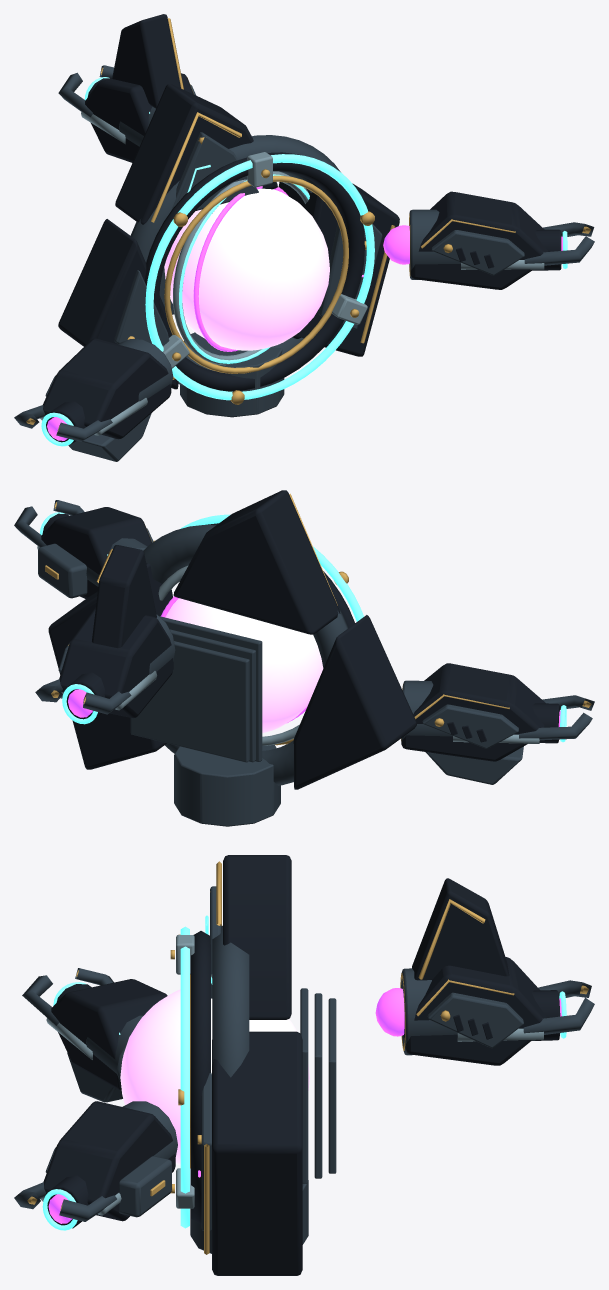
The model's file is vortex.glb.
3 renders of one model, top to bottom at view 1: azimuth 30°, elevation 25°; view 2: azimuth 150°, elevation 25°; view 3: azimuth 270°, elevation 25°, orthographic. The views are drawn at different scales.
Visible parts, largest first — view 1: Core_confined_plasma, Hull_dorsal_keel, Reactor_front_bezel, Arm1_tapered_carapace, Hull_port_cheek, Arm2_tapered_carapace, Ring_A_cyan_ceramic, Stabilizer_asymmetric_fin, Hull_starboard_cheek, Reactor_inner_gold_liner, Arm0_tapered_carapace, Reactor_armored_casing (+19 smaller); view 2: Hull_dorsal_keel, Hull_port_cheek, Rear_heat_sink_2, Core_confined_plasma, Underbody_turbine, Arm1_tapered_carapace, Arm0_tapered_carapace, Hull_starboard_cheek, Stabilizer_asymmetric_fin, Arm2_tapered_carapace, Reactor_armored_casing, Arm1_top_plate (+17 smaller); view 3: Hull_starboard_cheek, Hull_dorsal_keel, Arm2_tapered_carapace, Core_confined_plasma, Arm0_tapered_carapace, Arm1_tapered_carapace, Stabilizer_asymmetric_fin, Reactor_armored_casing, Reactor_front_bezel, Arm0_top_plate, Ring_A_cyan_ceramic, Focuser_side_cartridge (+18 smaller).
Part boxes in pixels (x1=…): Core_confined_plasma: x1=164, y1=188, x2=329, y2=350; Hull_dorsal_keel: x1=115, y1=84, x2=277, y2=224; Reactor_front_bezel: x1=144, y1=152, x2=364, y2=391; Arm1_tapered_carapace: x1=43, y1=338, x2=171, y2=439; Hull_port_cheek: x1=58, y1=219, x2=178, y2=389; Arm2_tapered_carapace: x1=410, y1=191, x2=548, y2=289; Ring_A_cyan_ceramic: x1=145, y1=154, x2=374, y2=400; Stabilizer_asymmetric_fin: x1=112, y1=14, x2=180, y2=108; Hull_starboard_cheek: x1=278, y1=182, x2=399, y2=356; Reactor_inner_gold_liner: x1=164, y1=175, x2=348, y2=373; Arm0_tapered_carapace: x1=85, y1=73, x2=193, y2=162; Reactor_armored_casing: x1=130, y1=135, x2=340, y2=385; Hull_dorsal_keel: x1=173, y1=490, x2=340, y2=634; Hull_port_cheek: x1=293, y1=615, x2=416, y2=789; Rear_heat_sink_2: x1=130, y1=641, x2=249, y2=762; Core_confined_plasma: x1=165, y1=598, x2=323, y2=732; Underbody_turbine: x1=174, y1=744, x2=280, y2=826; Arm1_tapered_carapace: x1=401, y1=663, x2=545, y2=761; Arm0_tapered_carapace: x1=59, y1=607, x2=173, y2=718; Hull_starboard_cheek: x1=48, y1=563, x2=172, y2=769; Stabilizer_asymmetric_fin: x1=92, y1=545, x2=156, y2=648; Arm2_tapered_carapace: x1=41, y1=507, x2=151, y2=598; Reactor_armored_casing: x1=143, y1=525, x2=348, y2=785; Arm1_top_plate: x1=422, y1=704, x2=518, y2=748; Hull_starboard_cheek: x1=212, y1=1031, x2=302, y2=1275; Hull_dorsal_keel: x1=223, y1=855, x2=291, y2=1019; Arm2_tapered_carapace: x1=43, y1=1101, x2=175, y2=1221; Core_confined_plasma: x1=120, y1=989, x2=309, y2=1165; Arm0_tapered_carapace: x1=403, y1=957, x2=546, y2=1065; Arm1_tapered_carapace: x1=51, y1=979, x2=167, y2=1090; Stabilizer_asymmetric_fin: x1=412, y1=878, x2=509, y2=980; Reactor_armored_casing: x1=212, y1=925, x2=249, y2=1077; Reactor_front_bezel: x1=191, y1=931, x2=210, y2=1224; Arm0_top_plate: x1=427, y1=992, x2=523, y2=1048; Ring_A_cyan_ceramic: x1=180, y1=926, x2=189, y2=1228; Focuser_side_cartridge: x1=119, y1=1156, x2=171, y2=1217.
Bounding box in the file's own units: 2.36 × 1.29 × 1.86.
